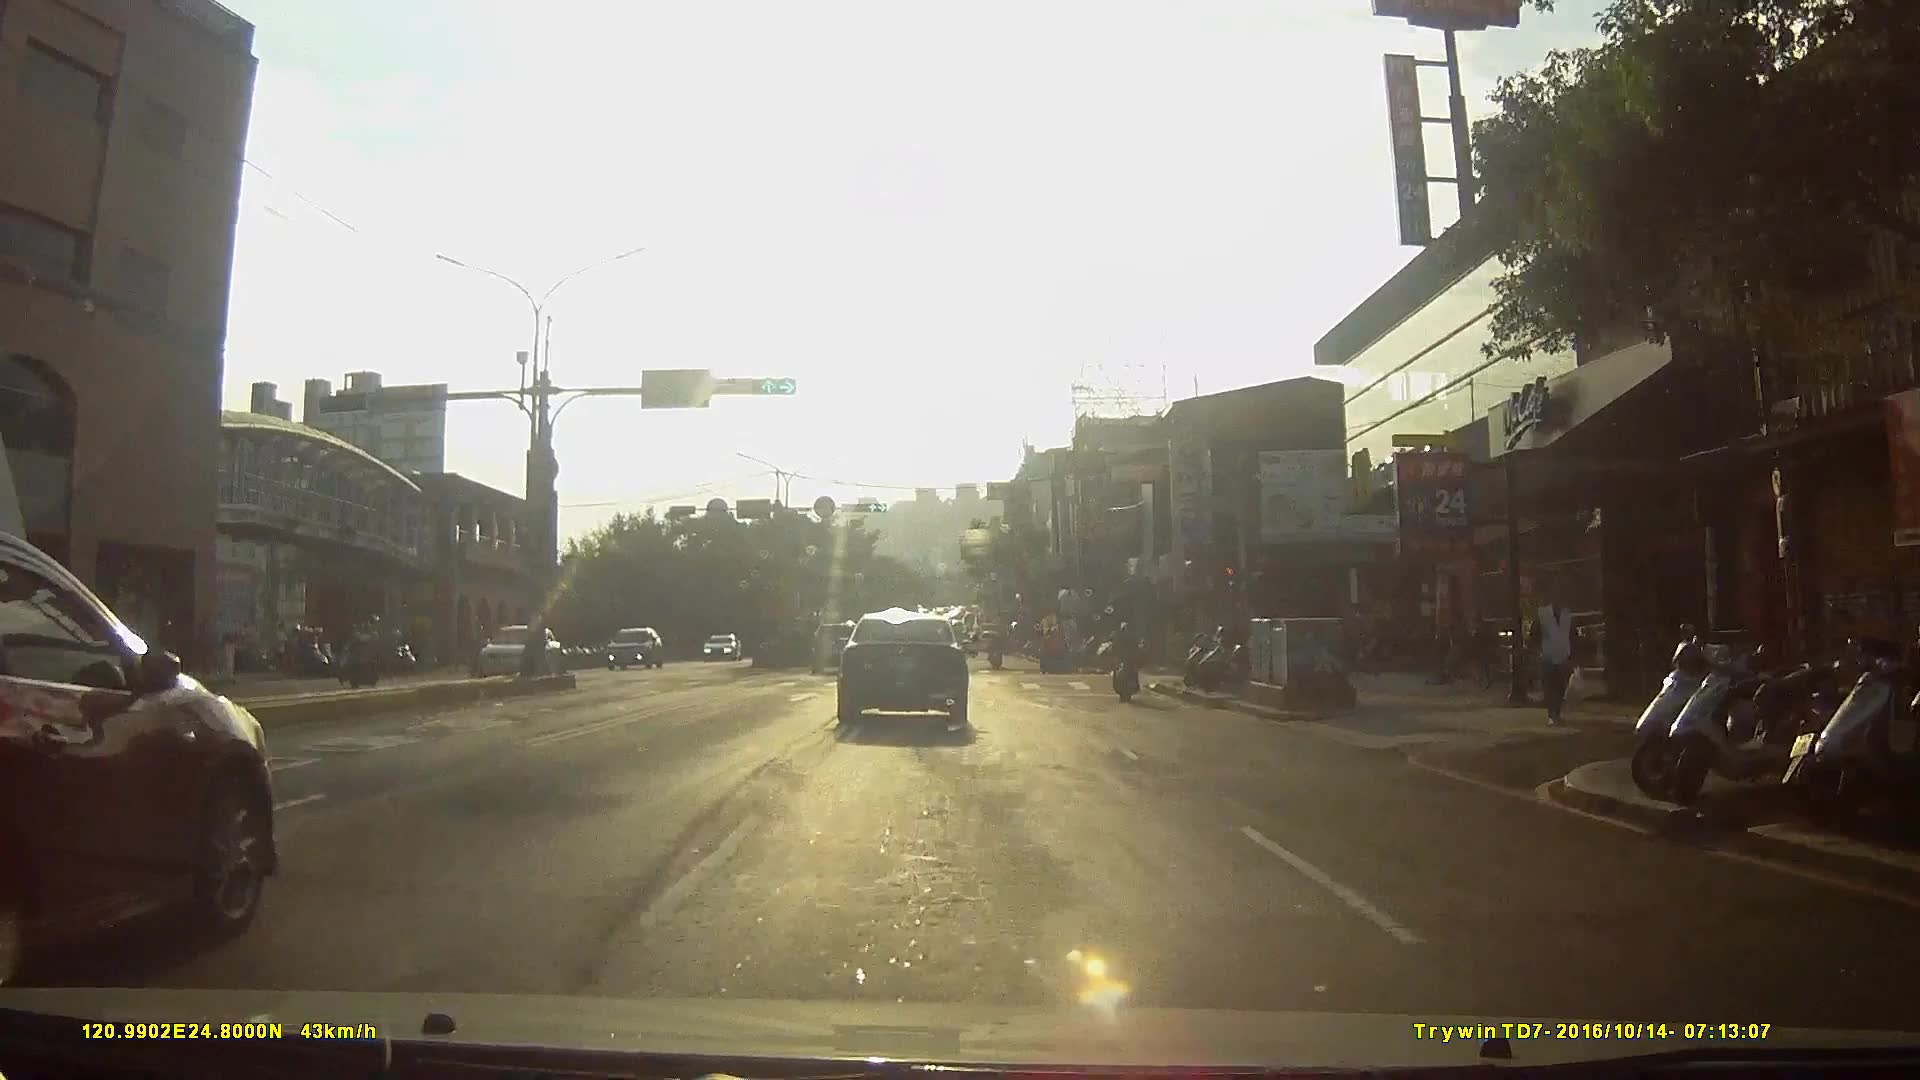pedestrian: (1525, 588, 1579, 730)
rider: (131, 624, 185, 698), (339, 615, 387, 696), (1110, 619, 1145, 704), (333, 628, 377, 683), (1038, 630, 1066, 678), (986, 636, 1006, 676)
vehicle: (1, 537, 287, 992), (835, 609, 987, 735), (470, 622, 568, 688), (811, 622, 870, 677), (608, 626, 667, 674), (700, 631, 746, 663)
